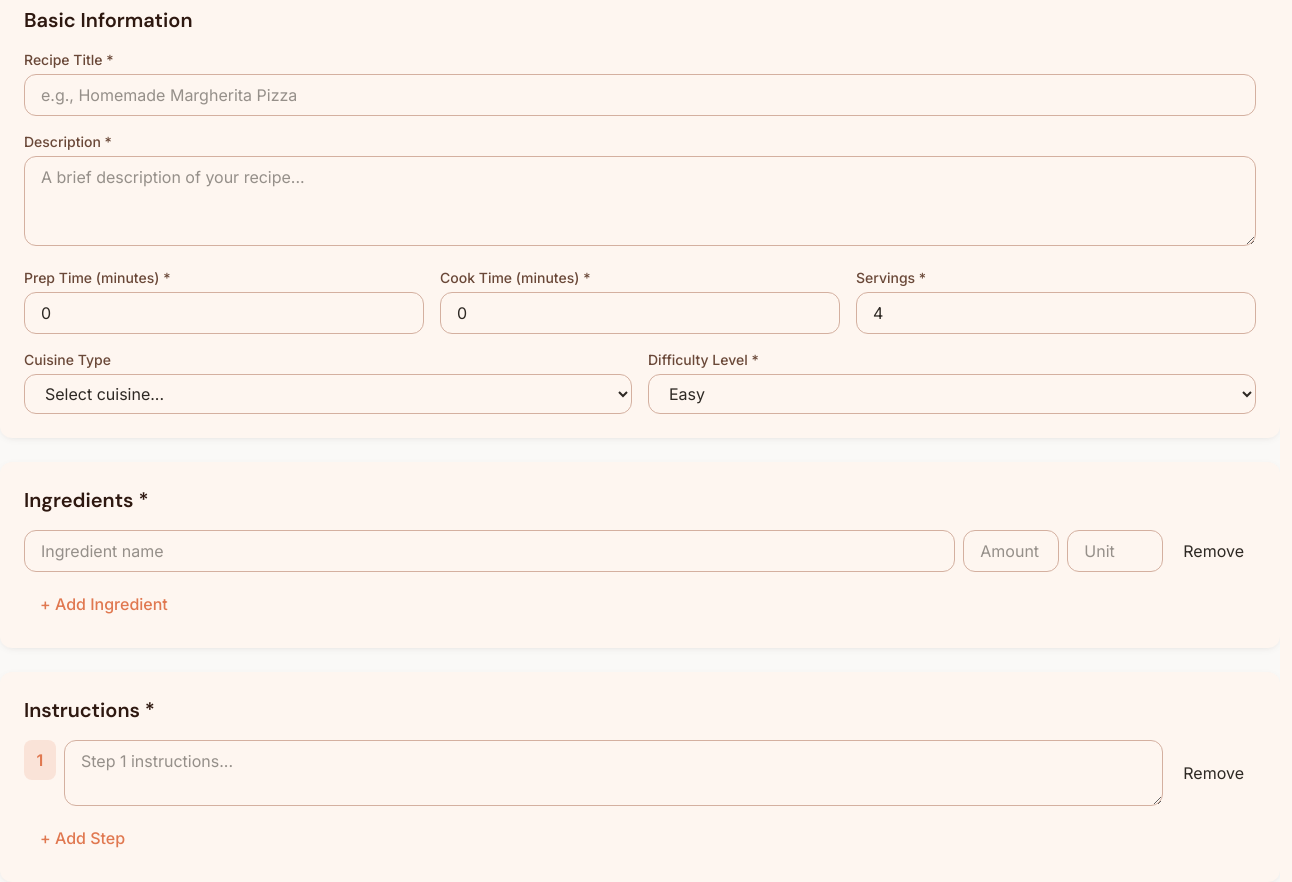
RecipeForm › Validation › should show error for empty description
Fill in required fields except description
Step 1. Type "Test Recipe" into the field with placeholder "e.g., Homemade Margherita Pizza" → (640, 95), box [24, 74, 1256, 116]
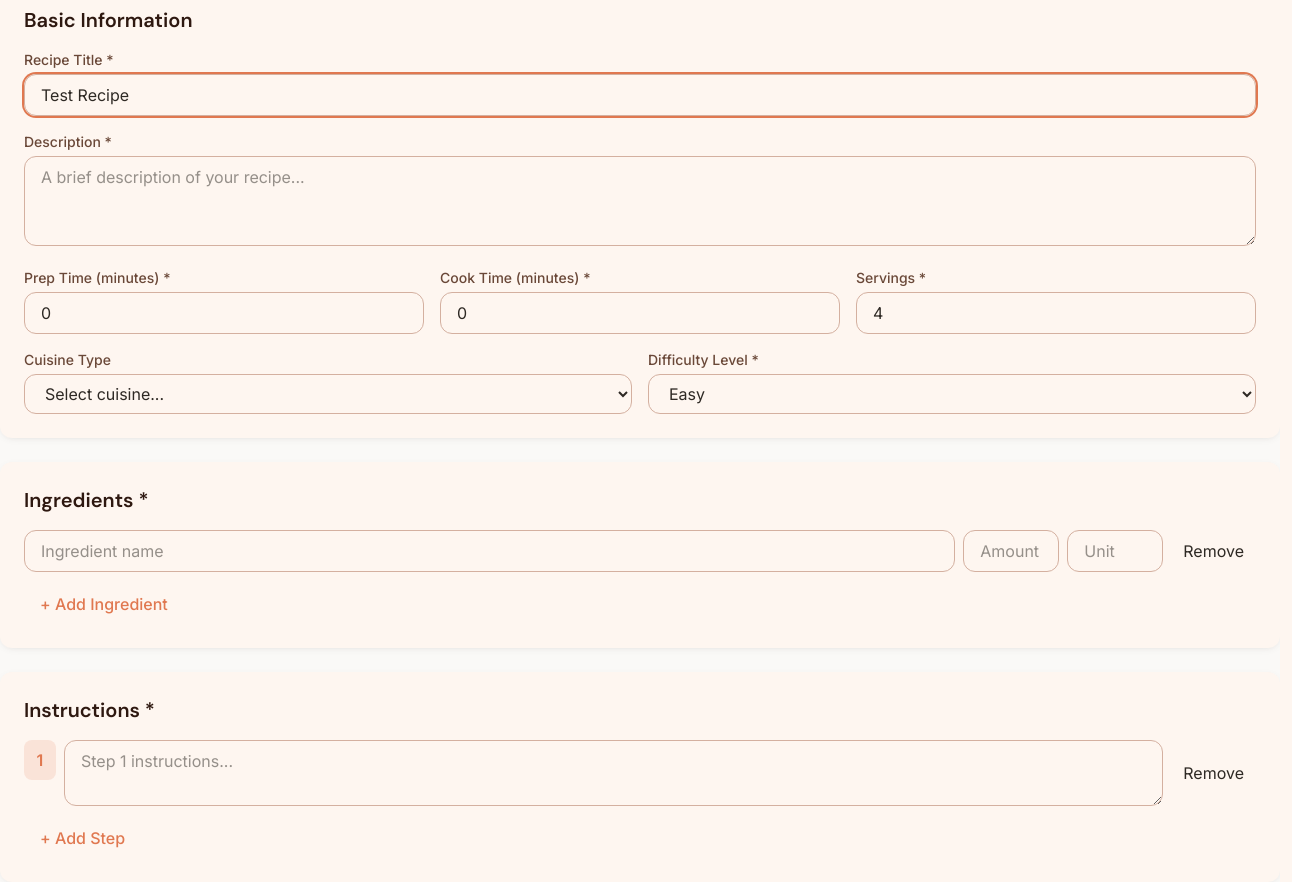
Step 2. Type "flour" into the field with placeholder "Ingredient name" → (490, 551), box [24, 530, 955, 572]
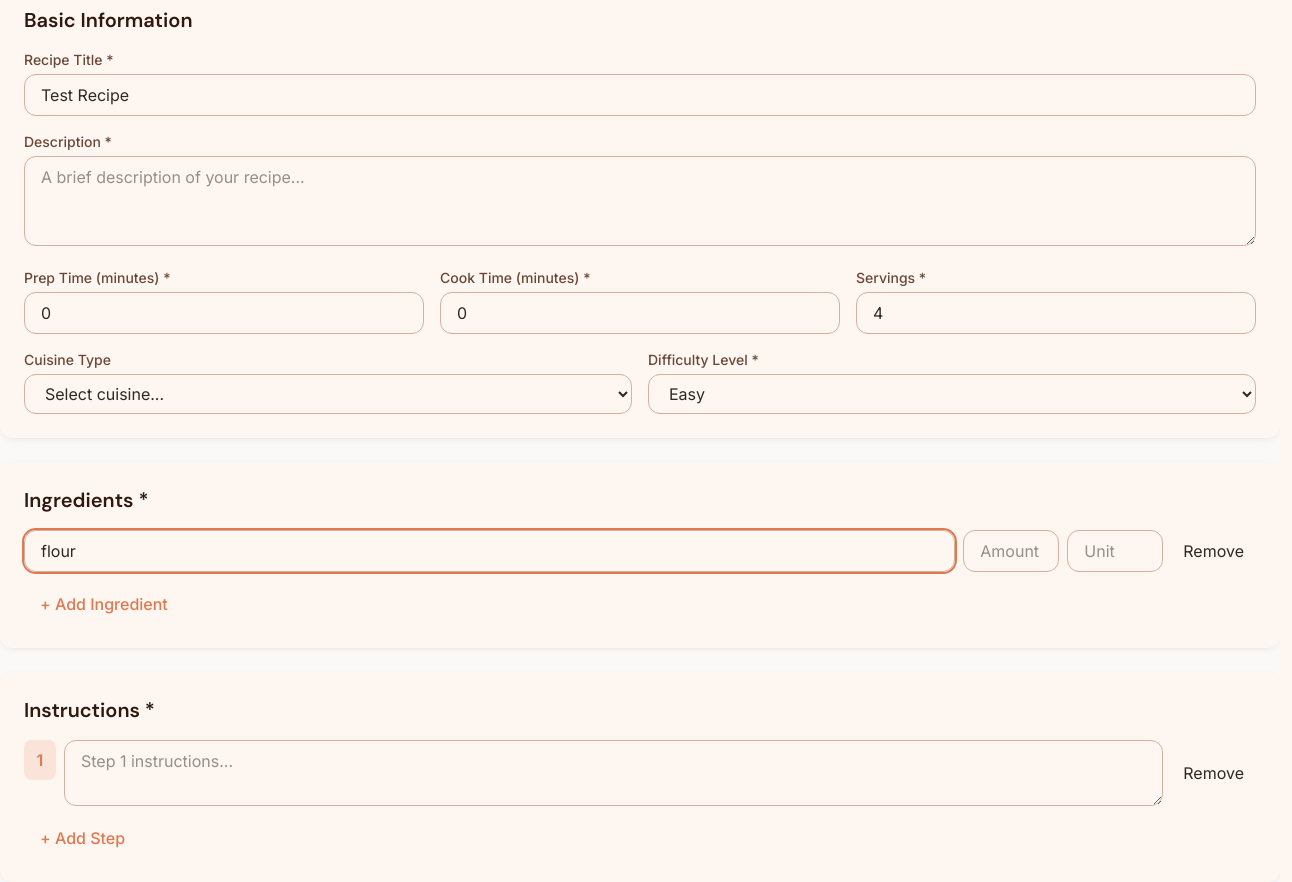
Step 3. Type "2" into the field with placeholder "Amount" → (1011, 551), box [963, 530, 1059, 572]
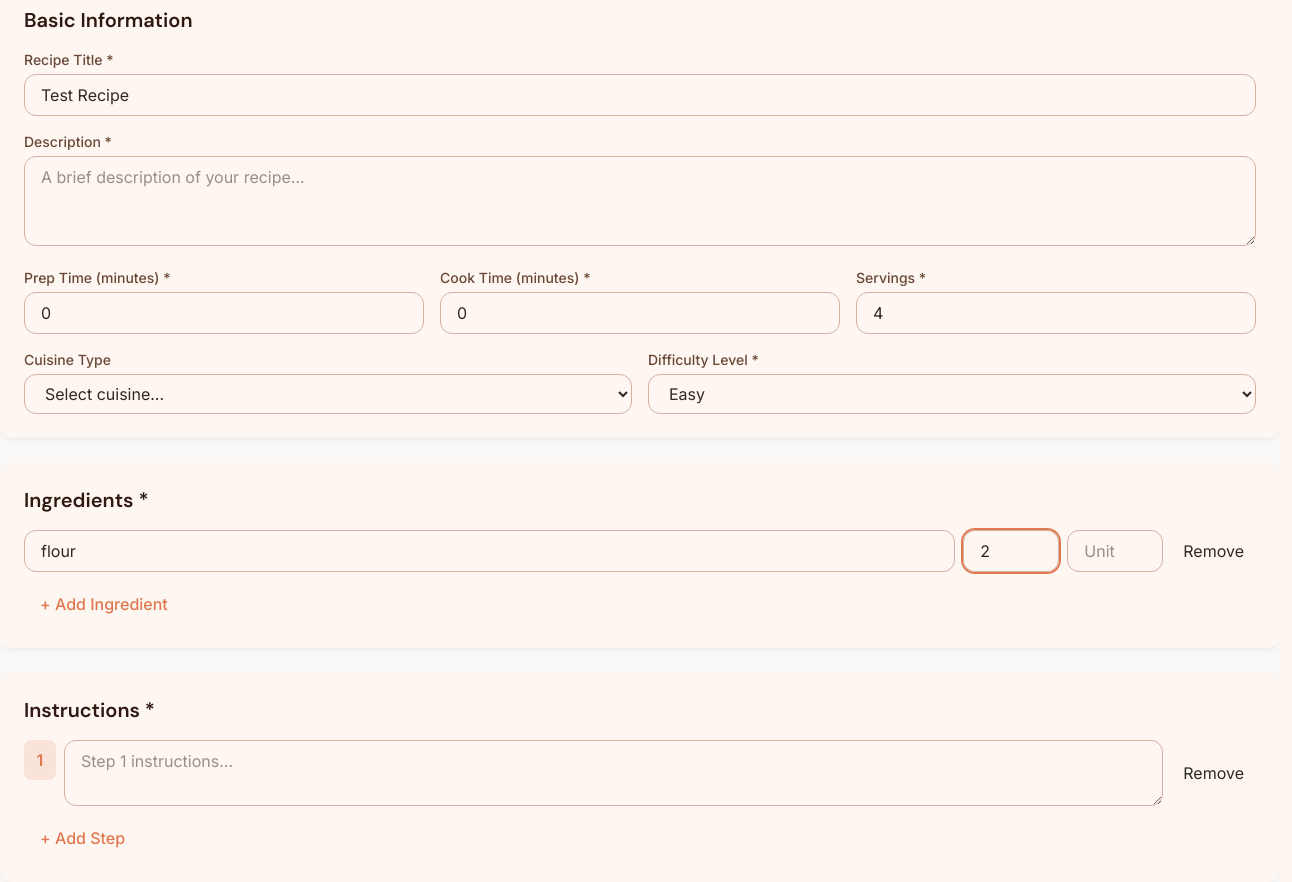
Step 4. Type "Mix" into the text box with placeholder "Step 1 instructions..." → (614, 773), box [64, 740, 1163, 806]
(page scrolled)
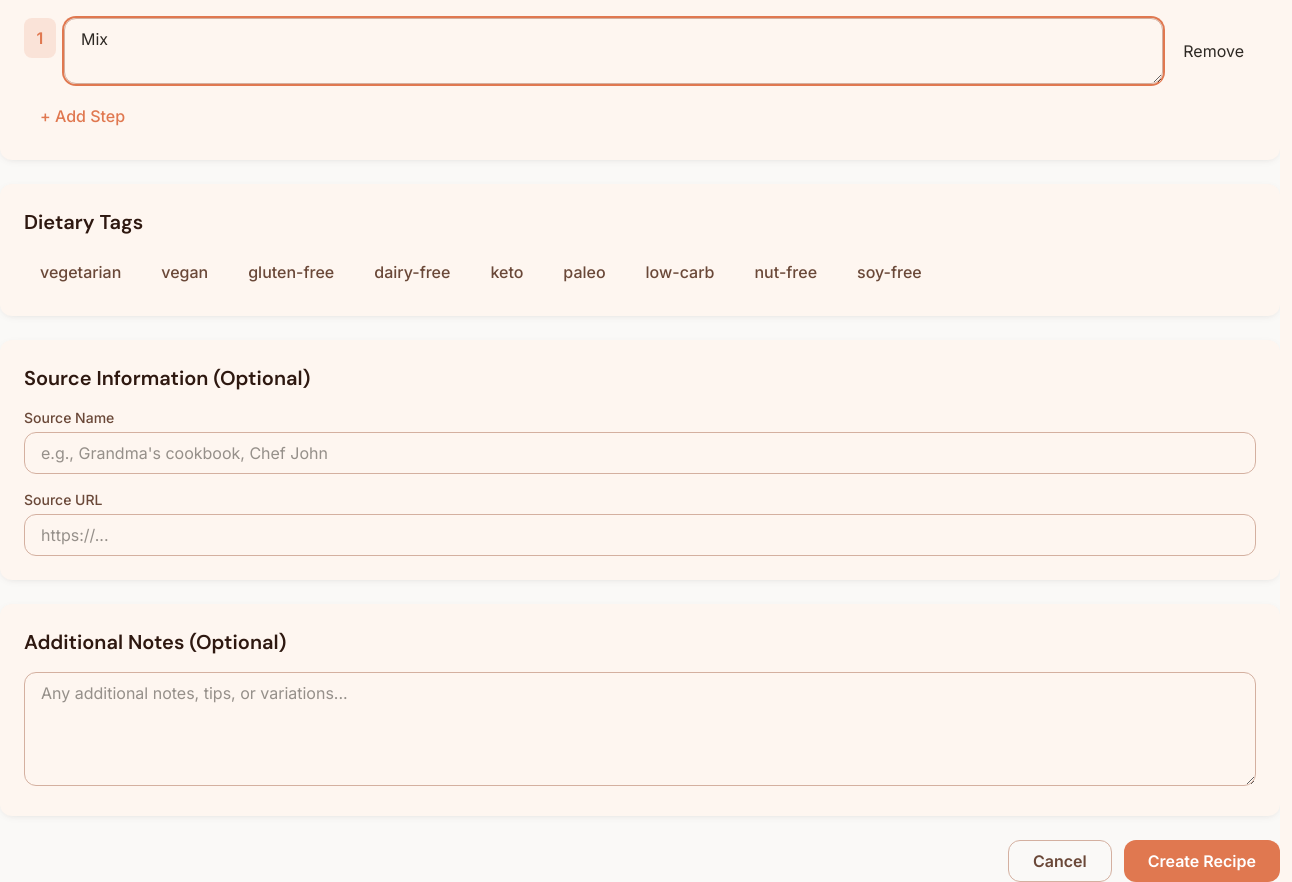
Step 5. Click the button "Create Recipe" → (1202, 861), box [1124, 840, 1280, 881]
(page scrolled)
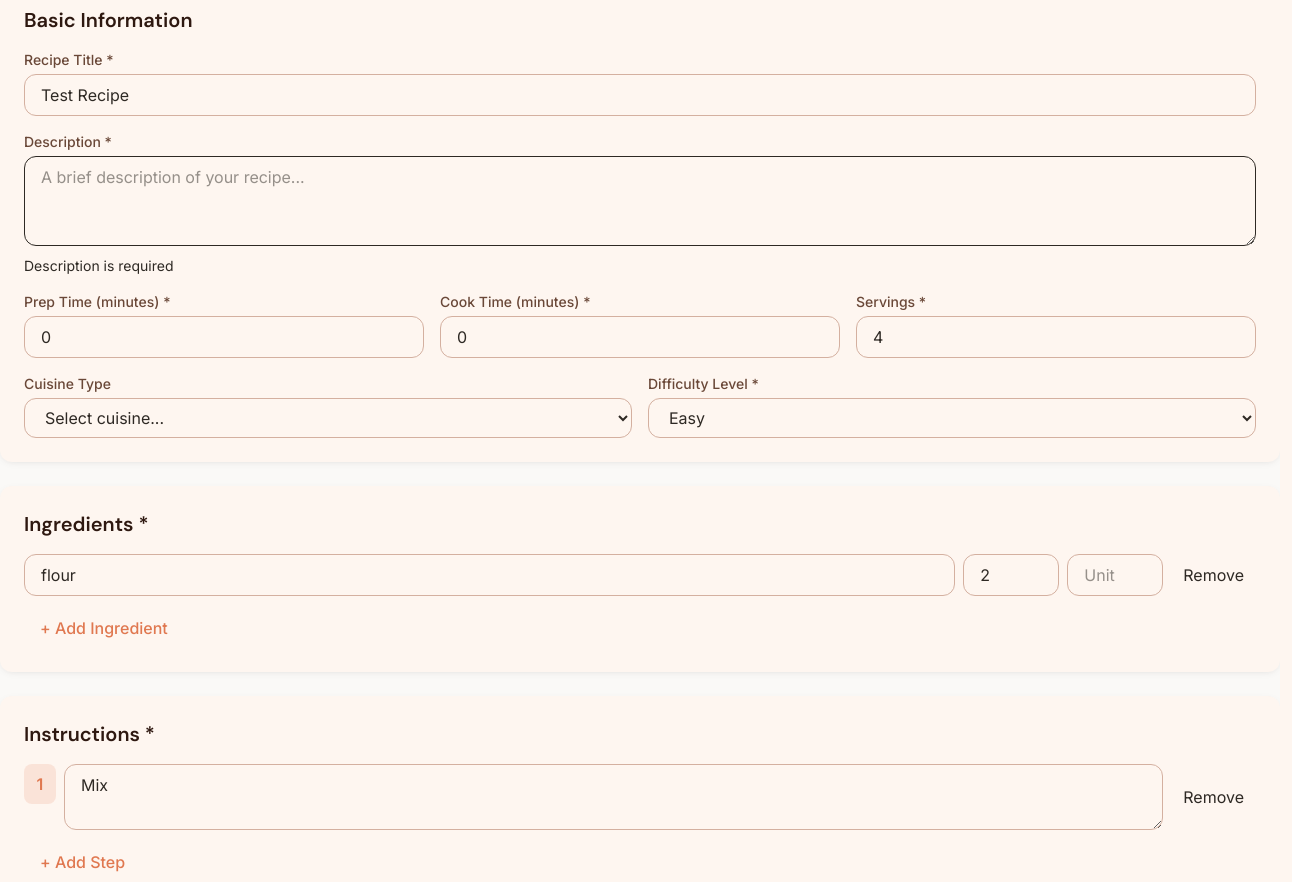
Expected: the text "Description is required" is shown, [24, 257, 174, 274]
